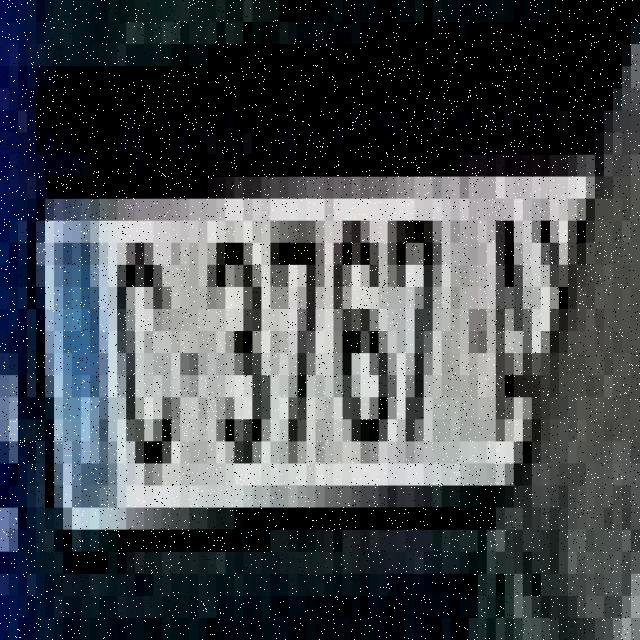licenseplate: (26, 148, 608, 580)
